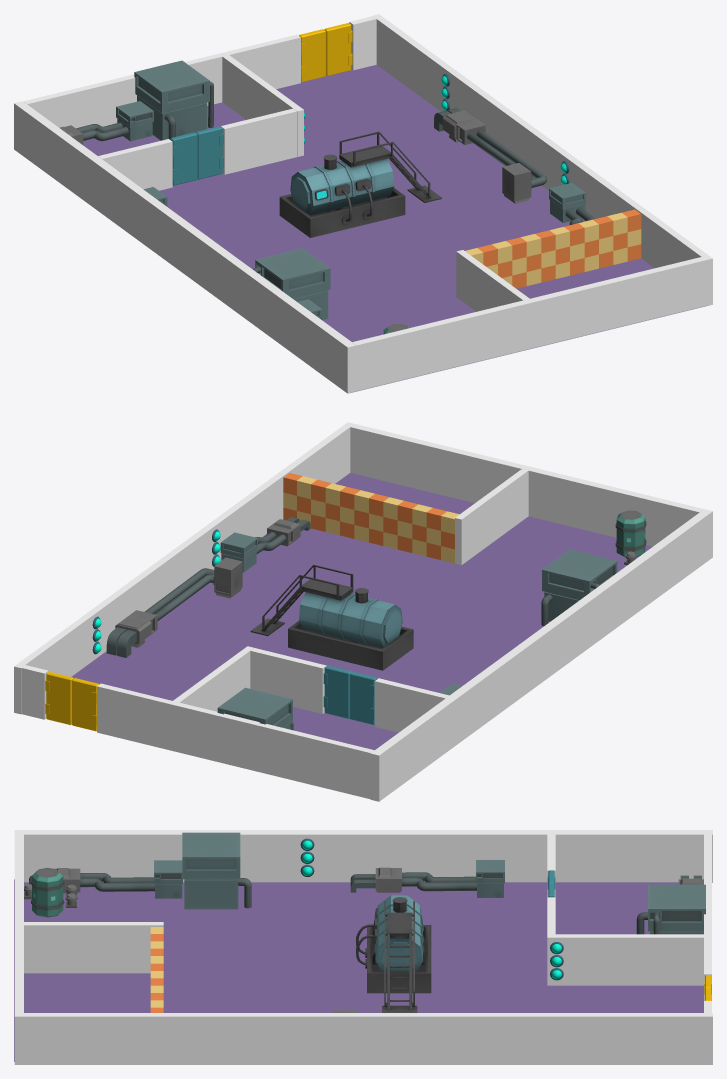
The model's file is maps_38.fbx.
The picture shows the model from 3 angles, top to bottom: view 1: azimuth 30°, elevation 25°; view 2: azimuth 150°, elevation 25°; view 3: azimuth 270°, elevation 25°; orthographic projection. The views are drawn at different scales.
Parts seen in each view (by area): view 1: wall_01_08_geo, wall_01_07_geo, wall_01_05_geo, wall_01_06_geo, tankwater_geo, wall_01_09_geo, generatorStation_05_geo1, wall_01_09_geo2, generatorStation_03_geo1, wall_01_11_geo3, generatorStation_05_geo, wall_01_11_geo4 (+8 smaller); view 2: wall_01_08_geo, wall_01_07_geo, wall_01_05_geo, wall_01_09_geo, wall_01_06_geo, tankwater_geo, wall_01_11_geo4, generatorStation_03_geo1, wall_01_09_geo2, generatorStation_05_geo, wall_01_09_geo1, wall_01_11_geo3 (+8 smaller); view 3: wall_01_08_geo, wall_01_06_geo, wall_01_07_geo, wall_01_11_geo3, wall_01_11_geo4, tankwater_geo, generatorStation_05_geo, generatorStation_04_geo1, generatorStation_05_geo1, generatorStation_04_geo, wall_01_05_geo, tank_01_geo (+2 smaller).
Part boxes in pixels (box(x1,y1,x2,y2)): wall_01_08_geo: box(83, 64, 708, 392); wall_01_07_geo: box(14, 101, 356, 393); wall_01_05_geo: box(352, 257, 706, 391); wall_01_06_geo: box(372, 14, 712, 306); tankwater_geo: box(279, 131, 441, 237); wall_01_09_geo: box(23, 34, 300, 128); generatorStation_05_geo1: box(134, 60, 213, 140); wall_01_09_geo2: box(221, 108, 296, 174); generatorStation_03_geo1: box(434, 108, 546, 203); wall_01_11_geo3: box(222, 55, 303, 156); generatorStation_05_geo: box(253, 248, 330, 320); wall_01_11_geo4: box(456, 250, 529, 311); wall_01_08_geo: box(71, 473, 652, 750); wall_01_07_geo: box(370, 509, 712, 801); wall_01_05_geo: box(350, 424, 703, 546); wall_01_09_geo: box(97, 683, 374, 798); wall_01_06_geo: box(14, 422, 354, 714); tankwater_geo: box(250, 564, 413, 670); wall_01_11_geo4: box(455, 469, 528, 565); generatorStation_03_geo1: box(106, 557, 242, 657); wall_01_09_geo2: box(250, 648, 326, 713); generatorStation_05_geo: box(541, 549, 617, 625); wall_01_09_geo1: box(374, 678, 449, 732); wall_01_11_geo3: box(173, 646, 253, 711); wall_01_08_geo: box(14, 879, 703, 1061); wall_01_06_geo: box(14, 1013, 712, 1064); wall_01_07_geo: box(14, 830, 712, 882); wall_01_11_geo3: box(547, 934, 703, 985); wall_01_11_geo4: box(24, 922, 163, 973); tankwater_geo: box(356, 895, 431, 1012); generatorStation_05_geo: box(182, 832, 251, 909); generatorStation_04_geo1: box(350, 860, 504, 897); generatorStation_05_geo1: box(636, 884, 705, 934); generatorStation_04_geo: box(29, 860, 182, 898); wall_01_05_geo: box(14, 834, 23, 1012); tank_01_geo: box(31, 867, 64, 917).
Bounding box in the file's own units: 73.34 × 13.41 × 116.
Materials: 7 (7 with a texture image).
